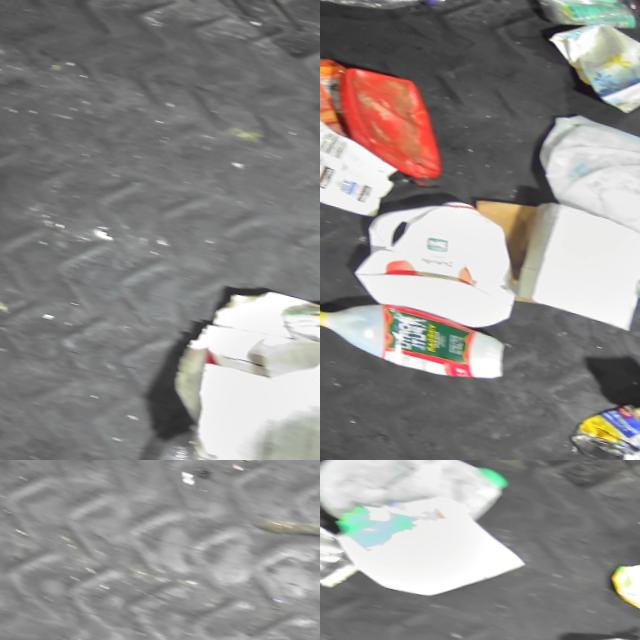can: (567, 394, 640, 460)
milk_jug: (344, 177, 536, 332), (320, 460, 515, 551), (537, 107, 640, 241)
non_white_jug: (320, 61, 459, 188)
plastic_bottle: (320, 0, 461, 30), (144, 413, 218, 460)
